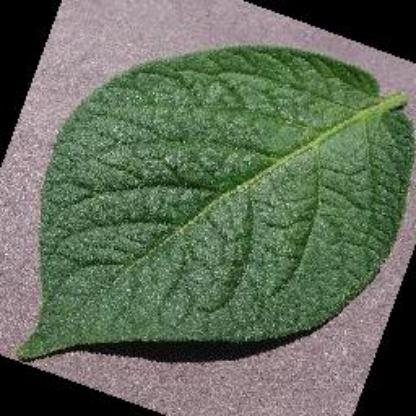Healthy-plant: (12, 35, 416, 373)
